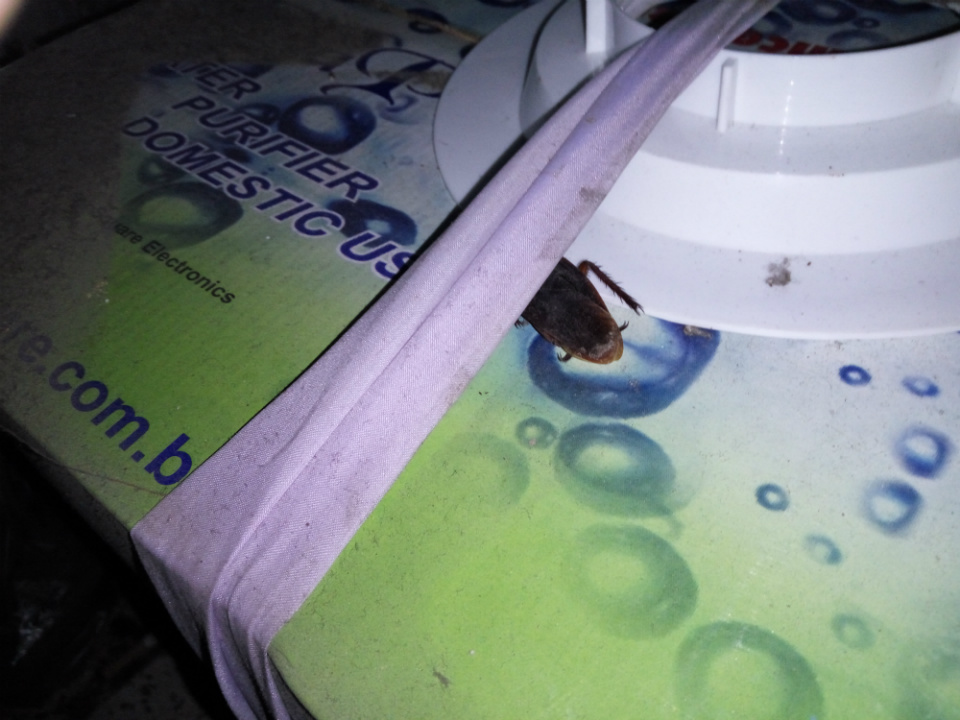cockroach: (472, 239, 690, 373)
